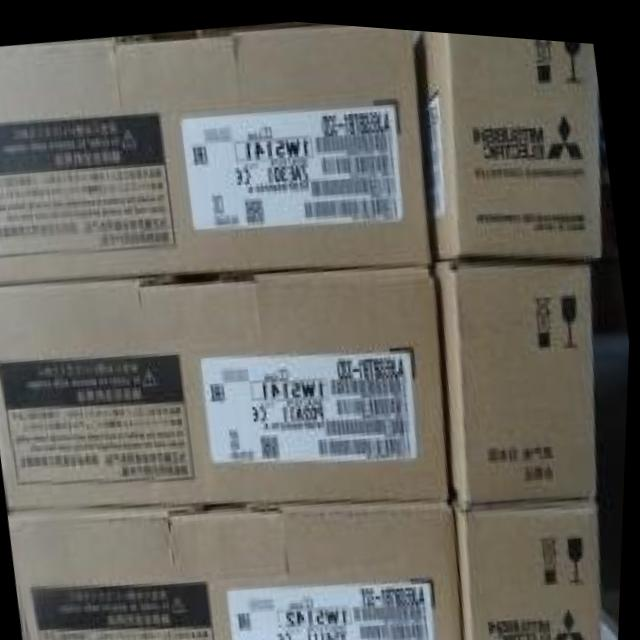box: (0, 20, 436, 288), (0, 259, 453, 509), (11, 495, 468, 640), (411, 24, 603, 253), (435, 250, 602, 505), (453, 477, 606, 640), (113, 17, 347, 41)
